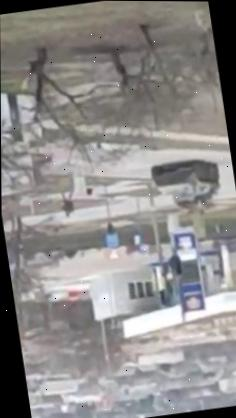person: (58, 189, 77, 218)
tank: (148, 157, 222, 213)
